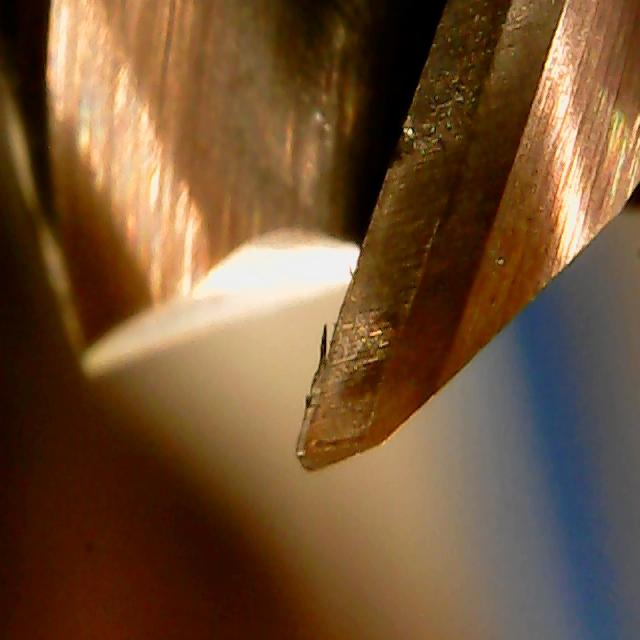Tool-wear-class-1: (267, 259, 474, 480)
